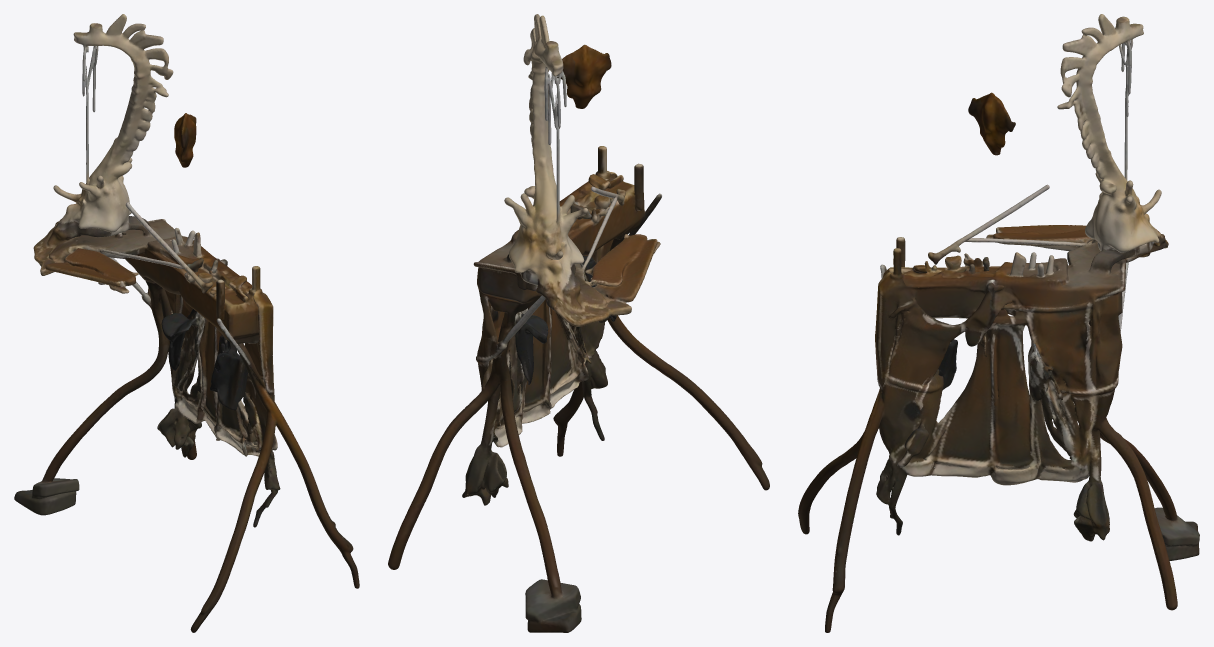
Rendered from DampTown.glb.
3 views of the same model, side by side, from view 1: azimuth 30°, elevation 25°; view 2: azimuth 150°, elevation 25°; view 3: azimuth 270°, elevation 25° (orthographic). The views are drawn at different scales.
Visible parts, largest first — view 1: tripo_node_e5f62000-a525-463b-aa43-c4d9949f6ef5; view 2: tripo_node_e5f62000-a525-463b-aa43-c4d9949f6ef5; view 3: tripo_node_e5f62000-a525-463b-aa43-c4d9949f6ef5.
Part boxes in pixels (bbox=[...]): tripo_node_e5f62000-a525-463b-aa43-c4d9949f6ef5: bbox=[14, 14, 359, 632]; tripo_node_e5f62000-a525-463b-aa43-c4d9949f6ef5: bbox=[388, 14, 769, 632]; tripo_node_e5f62000-a525-463b-aa43-c4d9949f6ef5: bbox=[798, 14, 1199, 632].
Size of the model in its own units: 0.3947 by 1 by 0.6503.
1 material, 1 textured.
